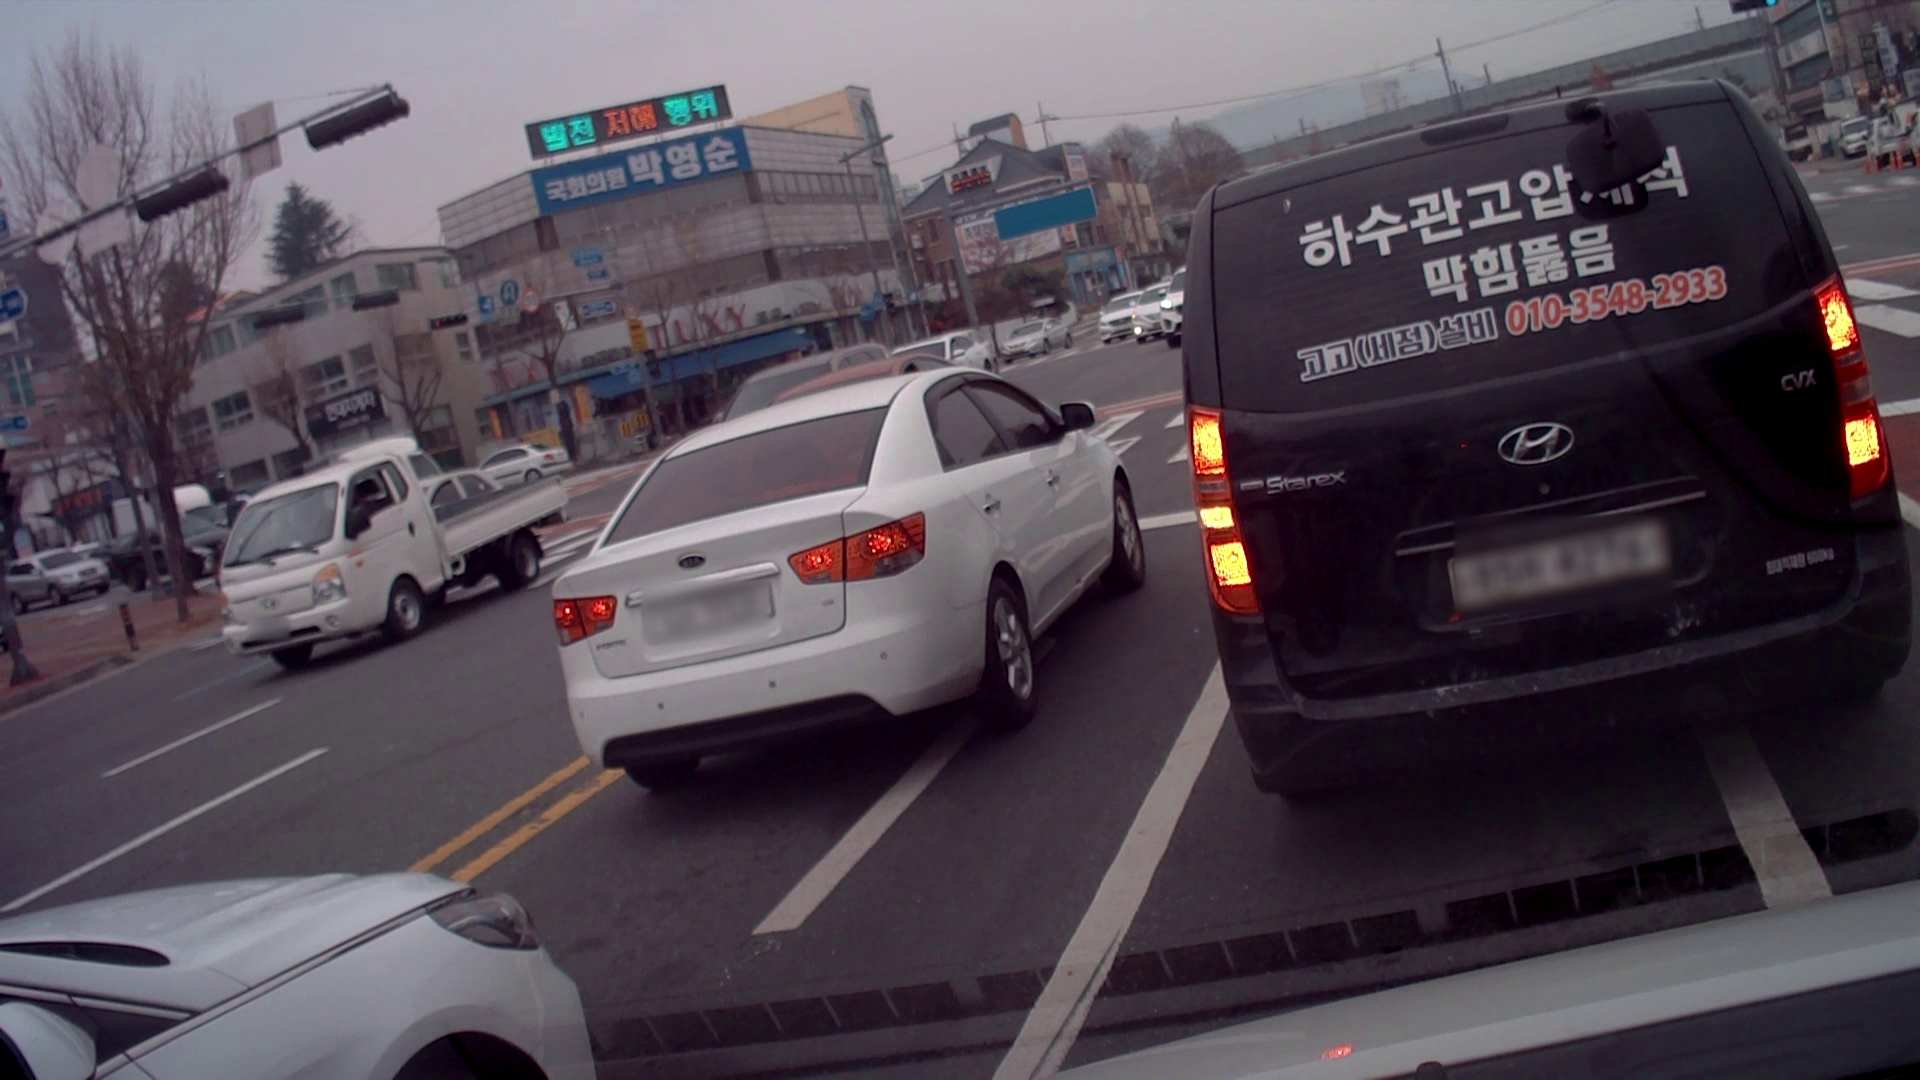trafficLight: (429, 313, 471, 336)
trafficSignCircle: (521, 287, 541, 316), (501, 280, 517, 307)
